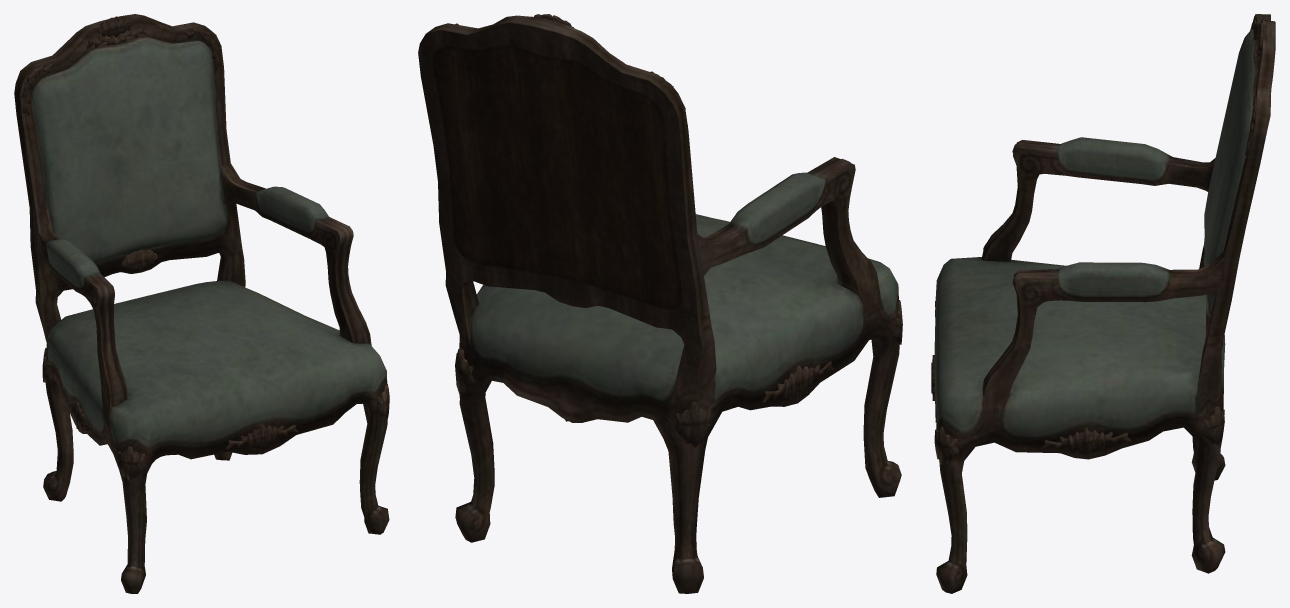
The model's file is greenchair_01.glb.
3 renders of one model, left to right at view 1: azimuth 30°, elevation 25°; view 2: azimuth 150°, elevation 25°; view 3: azimuth 270°, elevation 25°, orthographic. The views are drawn at different scales.
Visible parts, largest first — view 1: GreenChair_01; view 2: GreenChair_01; view 3: GreenChair_01.
Part boxes in pixels (x1,y1,x2,y2): GreenChair_01: (14, 14, 389, 593); GreenChair_01: (418, 14, 902, 593); GreenChair_01: (931, 14, 1275, 593).
Size of the model in its own units: 0.6731 by 1.06 by 0.6644.
1 material, 1 textured.
